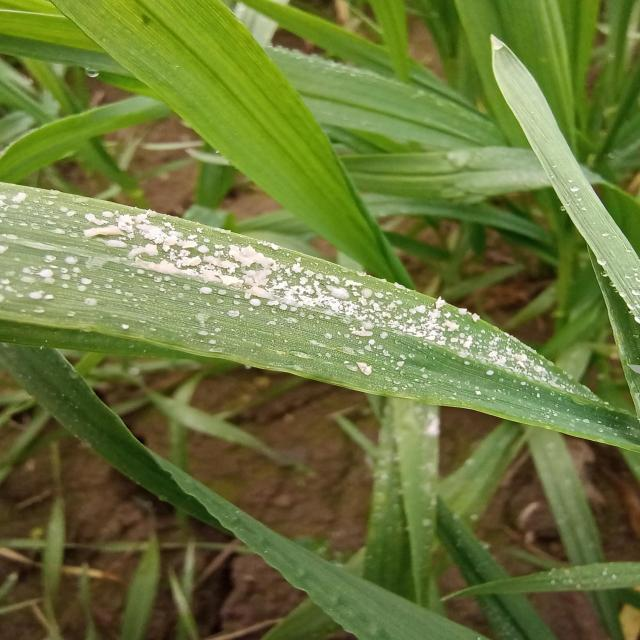Powdery_Mildew: (0, 187, 606, 420)
